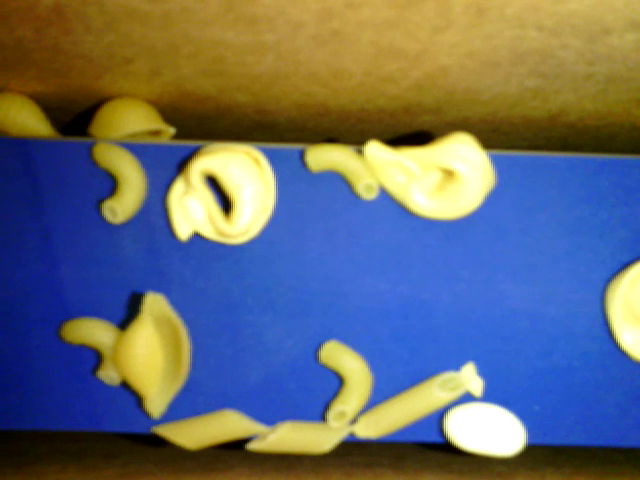elbow: (88, 140, 151, 226), (319, 332, 372, 427), (61, 314, 129, 381), (303, 142, 377, 198)
penne: (351, 369, 471, 440), (148, 408, 271, 446), (247, 415, 352, 458)
shell: (113, 281, 194, 415), (87, 94, 180, 142), (1, 87, 63, 143)
tortellini: (365, 131, 492, 224), (166, 141, 276, 245), (596, 250, 639, 360)
